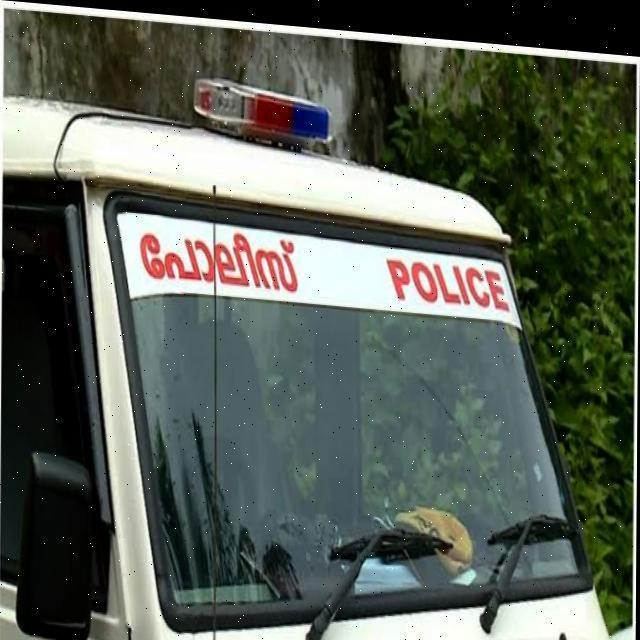Ambulance: (1, 54, 630, 640), (390, 492, 476, 571)
